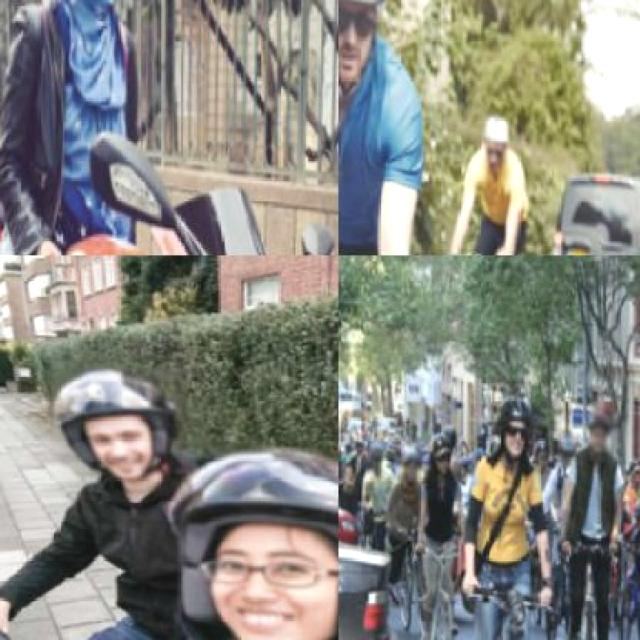With Helmet: (169, 426, 337, 639), (49, 353, 192, 487), (338, 0, 396, 63), (493, 381, 536, 465), (481, 100, 513, 178), (424, 423, 461, 477), (589, 393, 616, 458), (400, 438, 426, 482), (558, 425, 580, 464), (368, 437, 388, 472)
